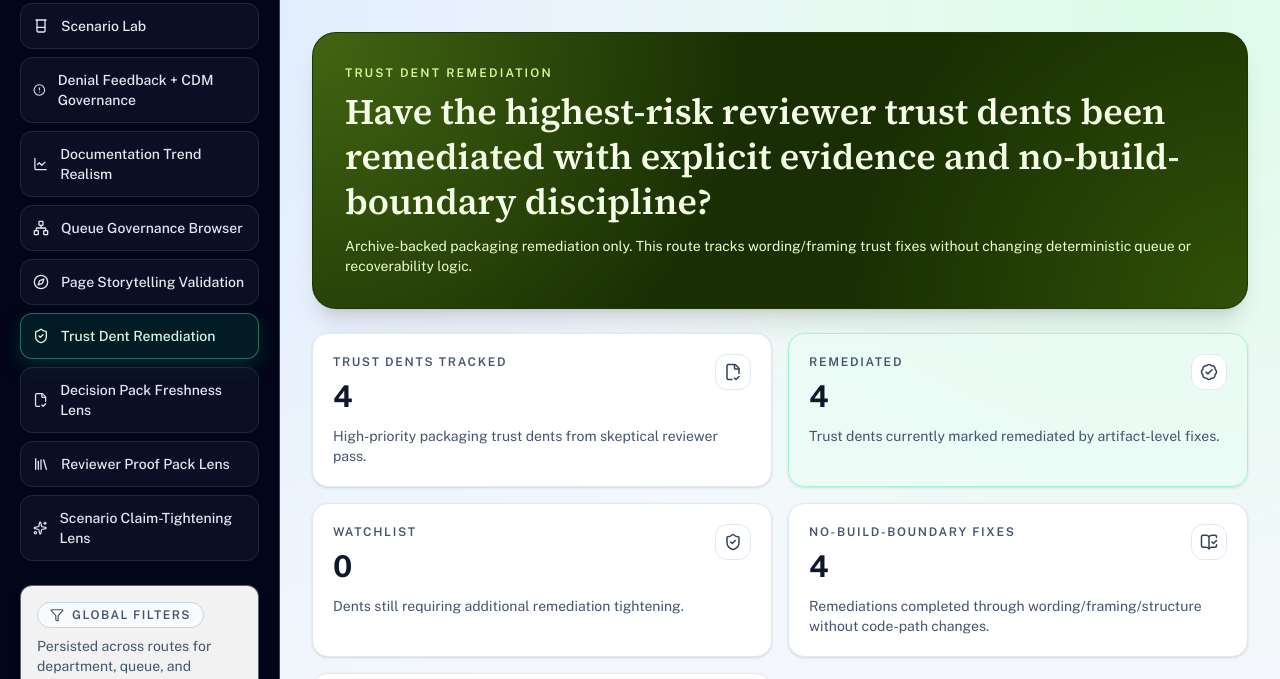
Test case: Route persistence and operational slices › renders Decision Pack Freshness Lens with current-snapshot framing
(page scrolled)
Click the link "Decision Pack Freshness Lens": (140, 400) [20,367,259,433]
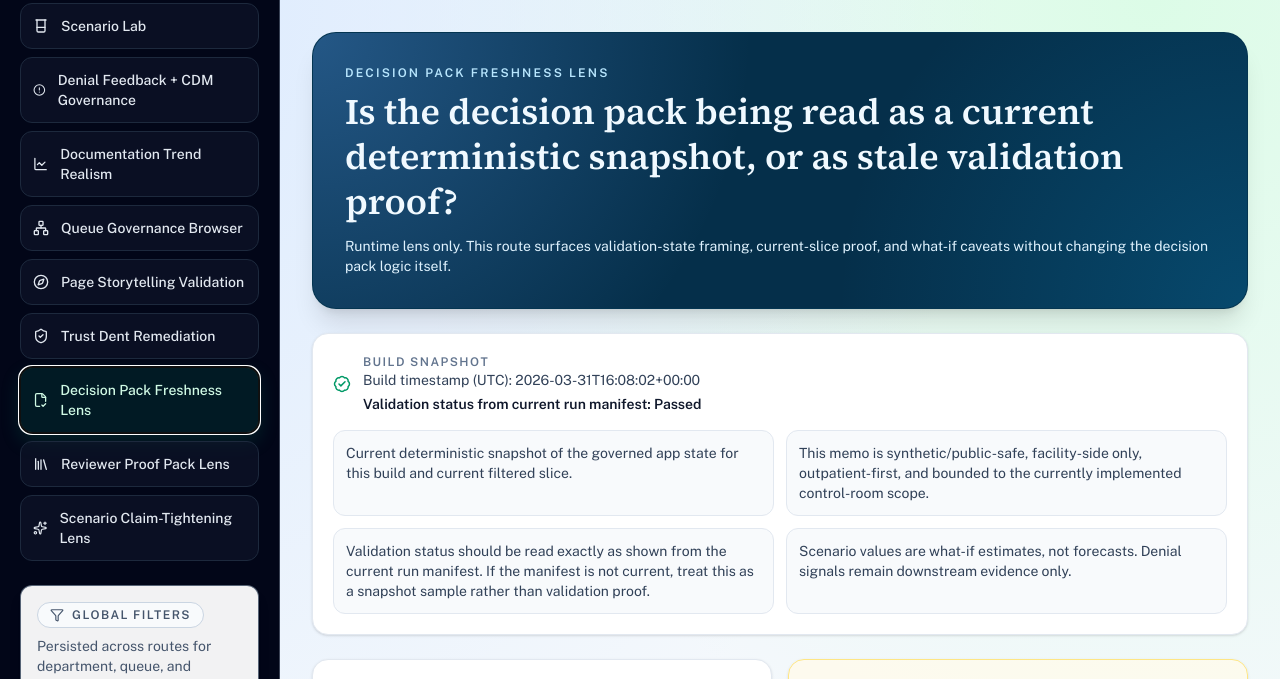
expect the heading "is the decision pack being read as a current deterministic snapshot, or as stale validation proof" is shown: met, box [345,87,1124,226]
